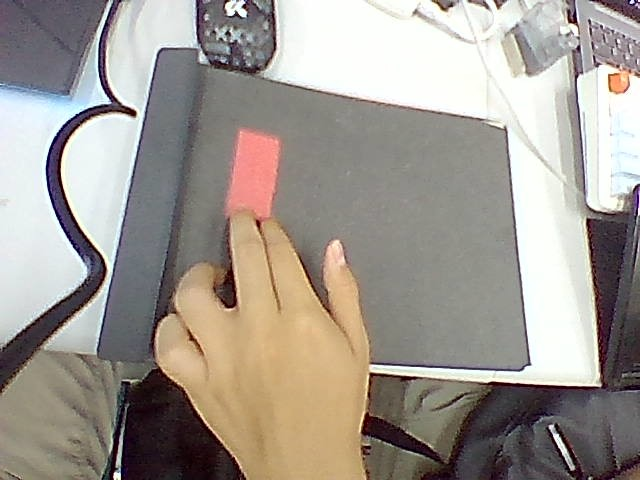card: (226, 128, 279, 219), (232, 147, 233, 148)
